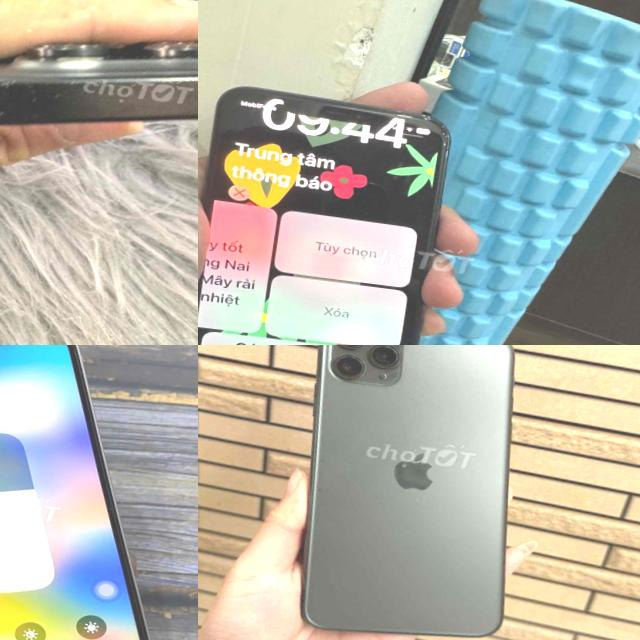gen_11: (276, 345, 544, 640), (198, 68, 459, 345)
gen_12_13: (0, 345, 195, 640)
gen_16: (0, 42, 198, 123)
